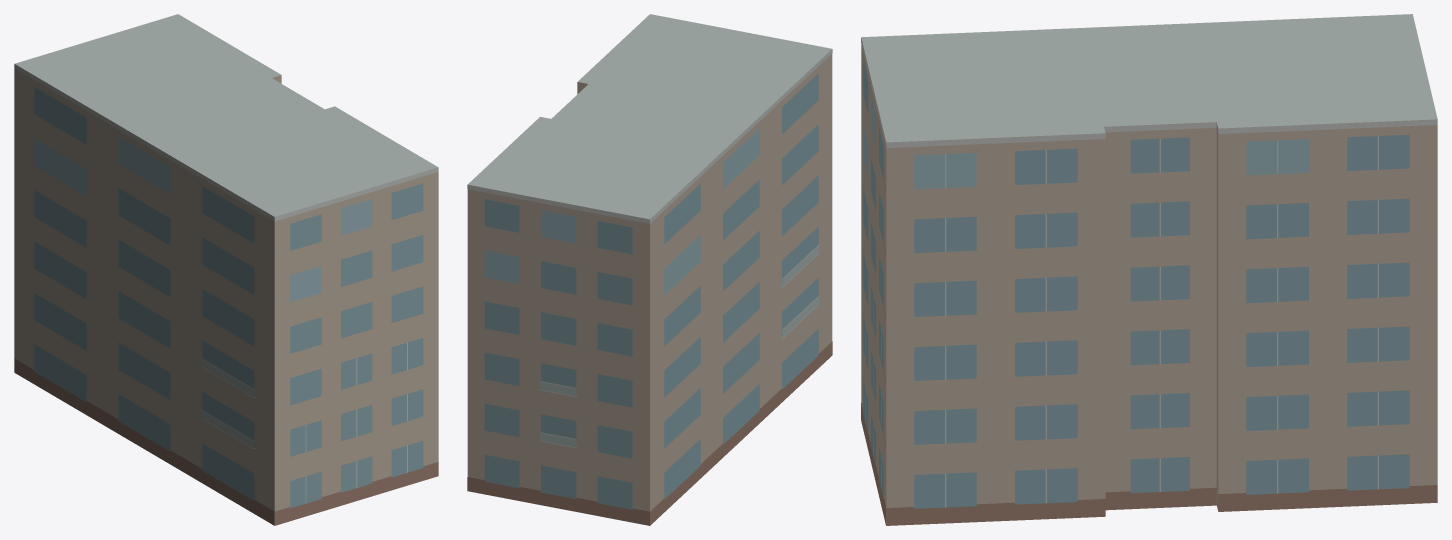
The model's file is survey-upis-32976632.glb.
The picture shows the model from 3 angles, left to right: view 1: azimuth 30°, elevation 25°; view 2: azimuth 150°, elevation 25°; view 3: azimuth 270°, elevation 25°; orthographic projection. The views are drawn at different scales.
Parts seen in each view (by area): view 1: survey-upis-32976632.tmp; view 2: survey-upis-32976632.tmp; view 3: survey-upis-32976632.tmp.
Boxes of the visible parts, x1,y1,x2,y2 form: survey-upis-32976632.tmp: (14,14,438,525); survey-upis-32976632.tmp: (467,14,832,525); survey-upis-32976632.tmp: (861,14,1437,525).
Bounding box in the file's own units: 11.94 × 16.6 × 22.63.
